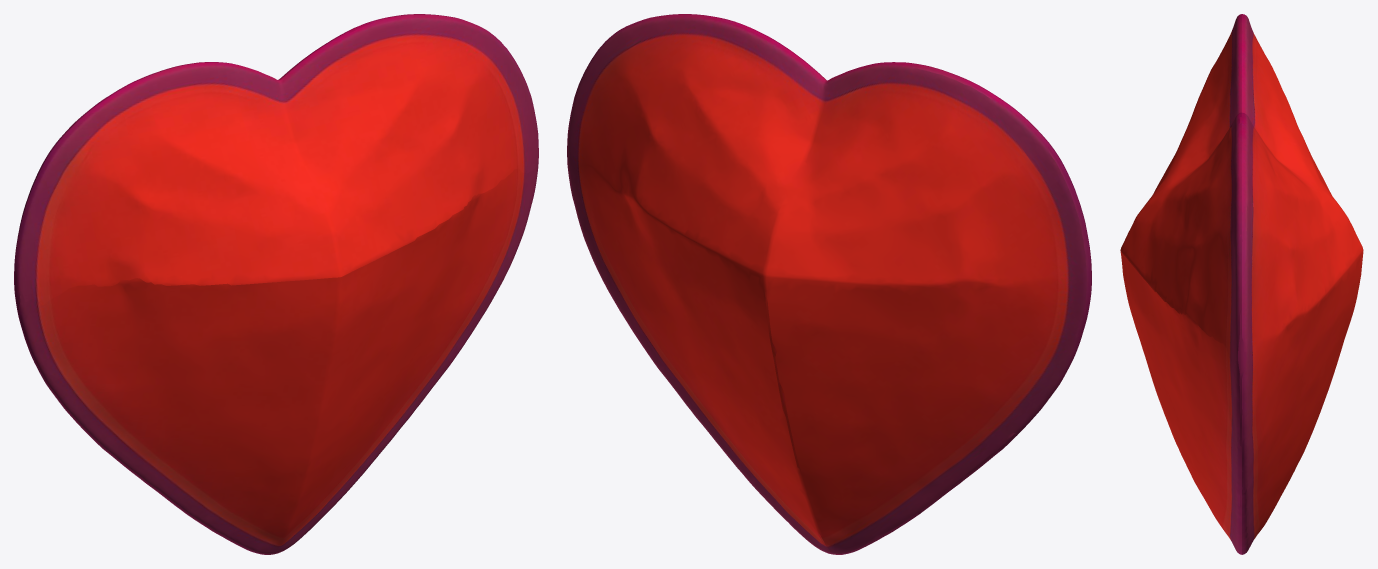
The picture shows the model from 3 angles, left to right: view 1: azimuth 30°, elevation 25°; view 2: azimuth 150°, elevation 25°; view 3: azimuth 270°, elevation 25°; orthographic projection. The views are drawn at different scales.
Parts seen in each view (by area): view 1: textured_mesh.obj; view 2: textured_mesh.obj; view 3: textured_mesh.obj.
Part boxes in pixels (<box>): textured_mesh.obj: <box>14,14,538,554</box>; textured_mesh.obj: <box>567,14,1091,554</box>; textured_mesh.obj: <box>1120,14,1363,554</box>.
Size of the model in its own units: 1.99 by 1.85 by 0.8606.
1 material, 1 textured.
